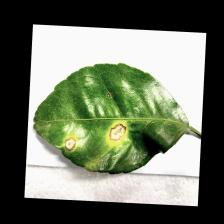canker: (46, 100, 151, 164)
